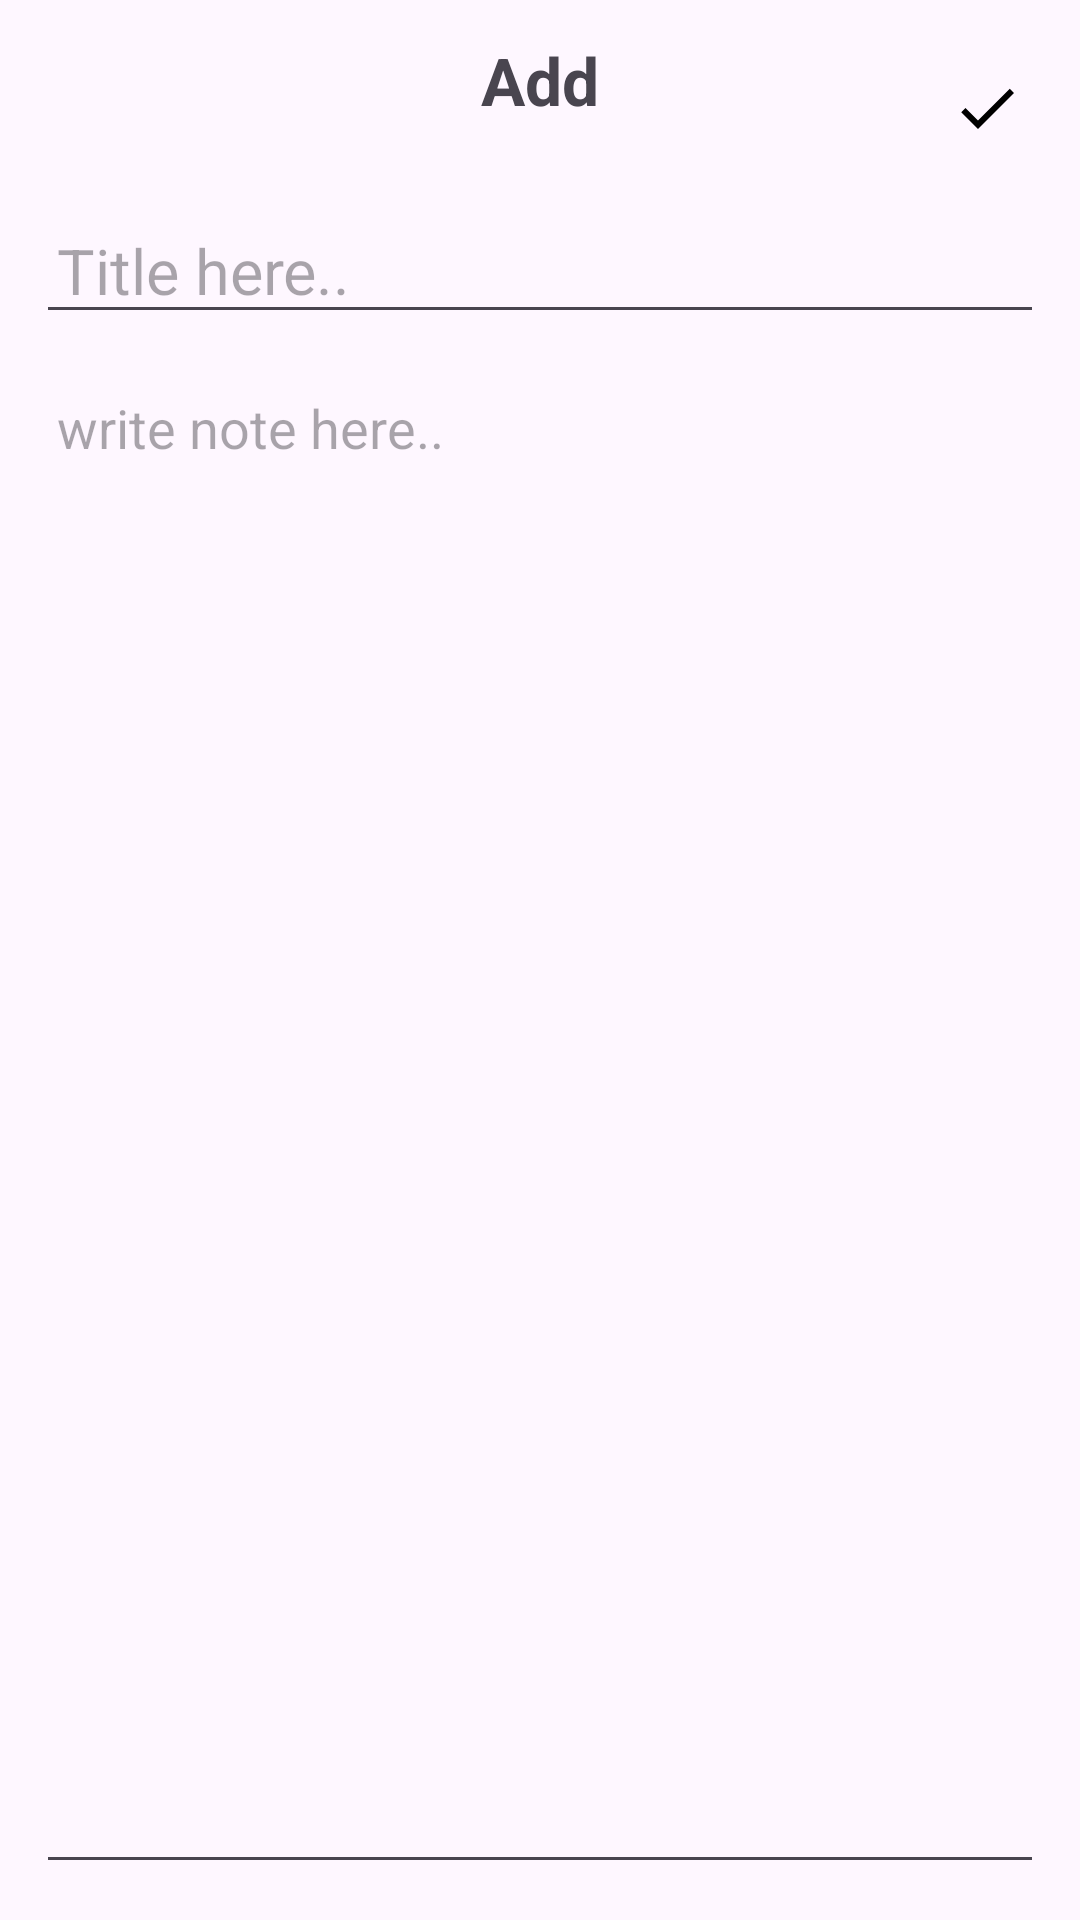

Icon bounding boxes for this 1080px×1920px phone screenshot, format [x1,y1,x2,y2]:
save: [961,89,1014,129]
